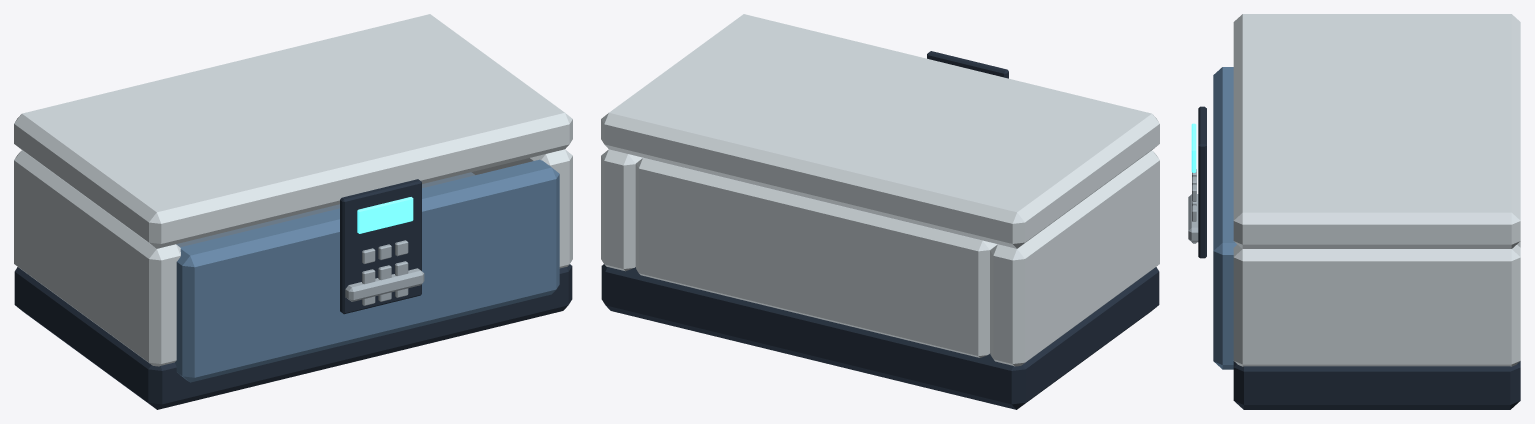
File: safes_03.glb
3 renders of one model, left to right at view 1: azimuth 30°, elevation 25°; view 2: azimuth 150°, elevation 25°; view 3: azimuth 270°, elevation 25°, orthographic.
Visible parts, largest first — view 1: Top, DrawerFace, Side (×2), Base, KeypadPanel, TinyScreen, Handle, InsideShelf; view 2: Top, Back, Side (×2), Base, KeypadPanel; view 3: Top, Side, Base, DrawerFace, KeypadPanel, Handle.
Boxes of the visible parts, <box> form: Top: <box>14,14,572,248</box>; DrawerFace: <box>175,159,559,382</box>; Side (×2): <box>14,149,572,366</box>; Base: <box>14,264,572,409</box>; KeypadPanel: <box>340,179,421,314</box>; TinyScreen: <box>357,197,413,233</box>; Handle: <box>345,268,424,301</box>; InsideShelf: <box>176,172,475,247</box>; Top: <box>601,14,1159,248</box>; Back: <box>635,157,997,357</box>; Side (×2): <box>601,149,1159,366</box>; Base: <box>601,264,1159,409</box>; KeypadPanel: <box>927,51,1008,78</box>; Top: <box>1233,14,1520,248</box>; Side: <box>1233,244,1520,366</box>; Base: <box>1233,361,1520,409</box>; DrawerFace: <box>1213,67,1236,369</box>; KeypadPanel: <box>1198,106,1206,258</box>; Handle: <box>1188,194,1198,242</box>.
Size of the model in its own units: 0.85 by 0.38 by 0.579.
